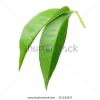Peach leaf: (17, 7, 68, 73), (39, 12, 72, 92)
